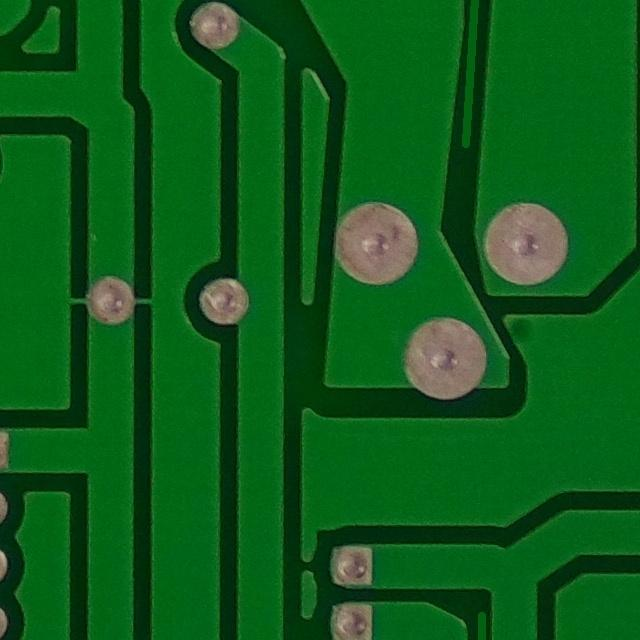spurious_copper: (449, 0, 505, 155)
